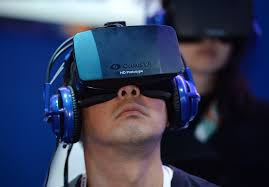oculus: (69, 24, 188, 89)
